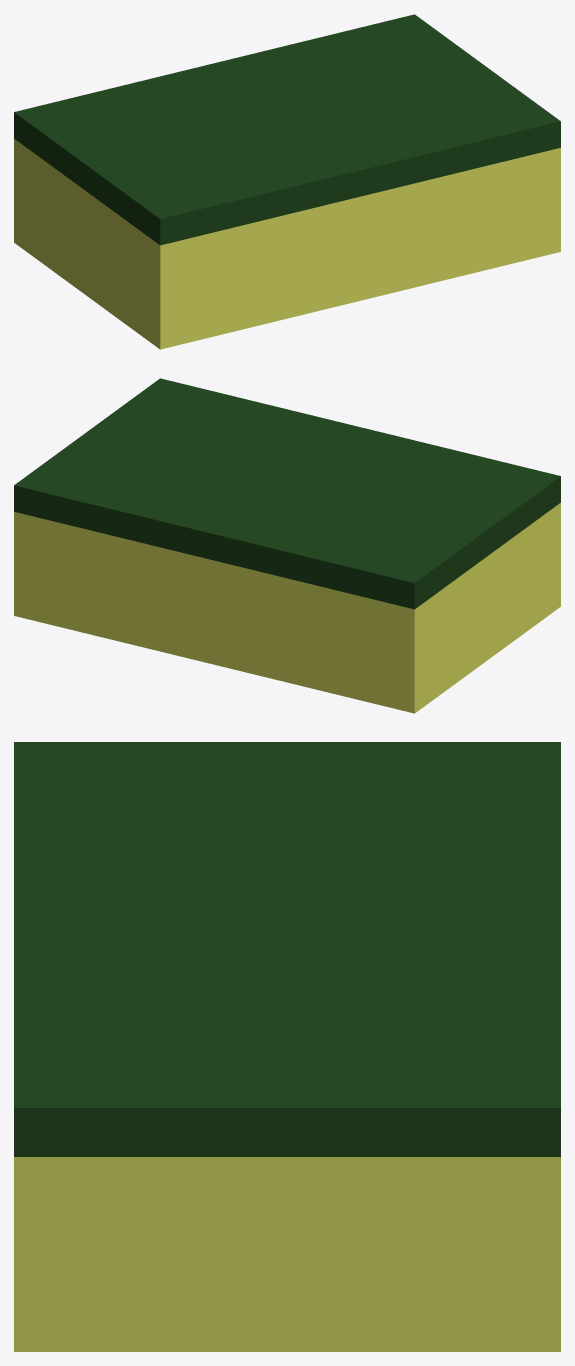
File: Spongebingleton.fbx
3 renders of one model, top to bottom at view 1: azimuth 30°, elevation 25°; view 2: azimuth 150°, elevation 25°; view 3: azimuth 270°, elevation 25°, orthographic. The views are drawn at different scales.
Visible parts, largest first — view 1: pCube2, pCube1; view 2: pCube2, pCube1; view 3: pCube2, pCube1.
Part boxes in pixels (bbox=[...]): pCube2: bbox=[14, 14, 560, 245]; pCube1: bbox=[14, 138, 560, 349]; pCube2: bbox=[14, 378, 560, 609]; pCube1: bbox=[14, 502, 560, 713]; pCube2: bbox=[14, 742, 560, 1156]; pCube1: bbox=[14, 1157, 560, 1351].
Size of the model in its own units: 11.75 by 3.66 by 7.43.
